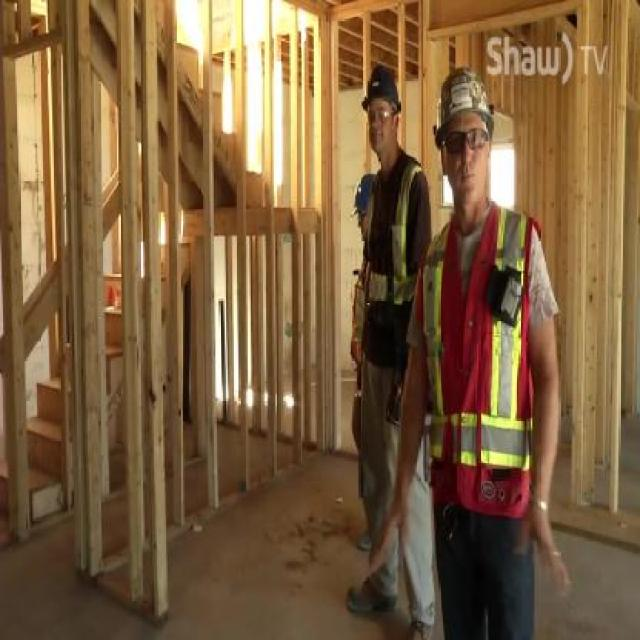Vest: (426, 210, 534, 472), (367, 162, 431, 306), (348, 239, 368, 359)
helmet: (435, 65, 494, 148), (362, 65, 401, 113), (351, 173, 372, 216)
person: (408, 71, 562, 640), (342, 65, 435, 640)
